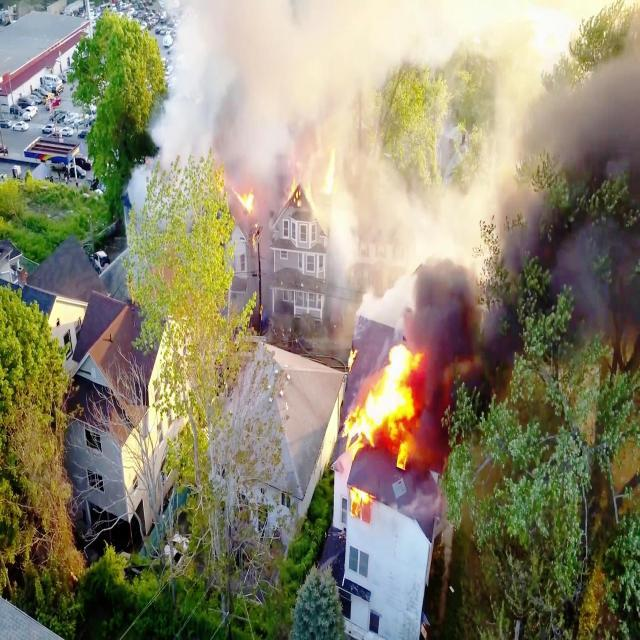Fire: (342, 344, 423, 473), (286, 172, 314, 212), (320, 143, 338, 196), (234, 186, 254, 218)
Smoke: (166, 2, 640, 144), (340, 147, 640, 335), (270, 225, 344, 328)
